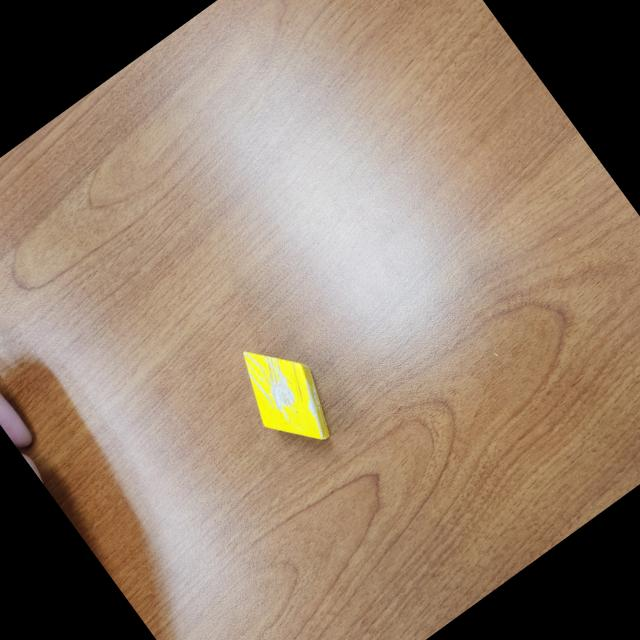broken: (222, 325, 352, 466)
